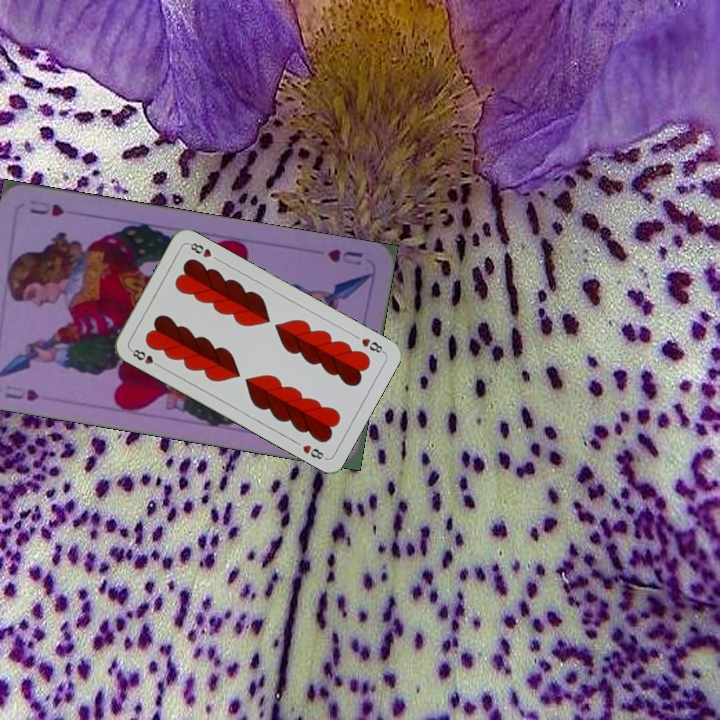H8: (126, 345, 164, 370), (357, 334, 387, 356)
HU: (323, 245, 365, 268), (1, 381, 42, 404)
